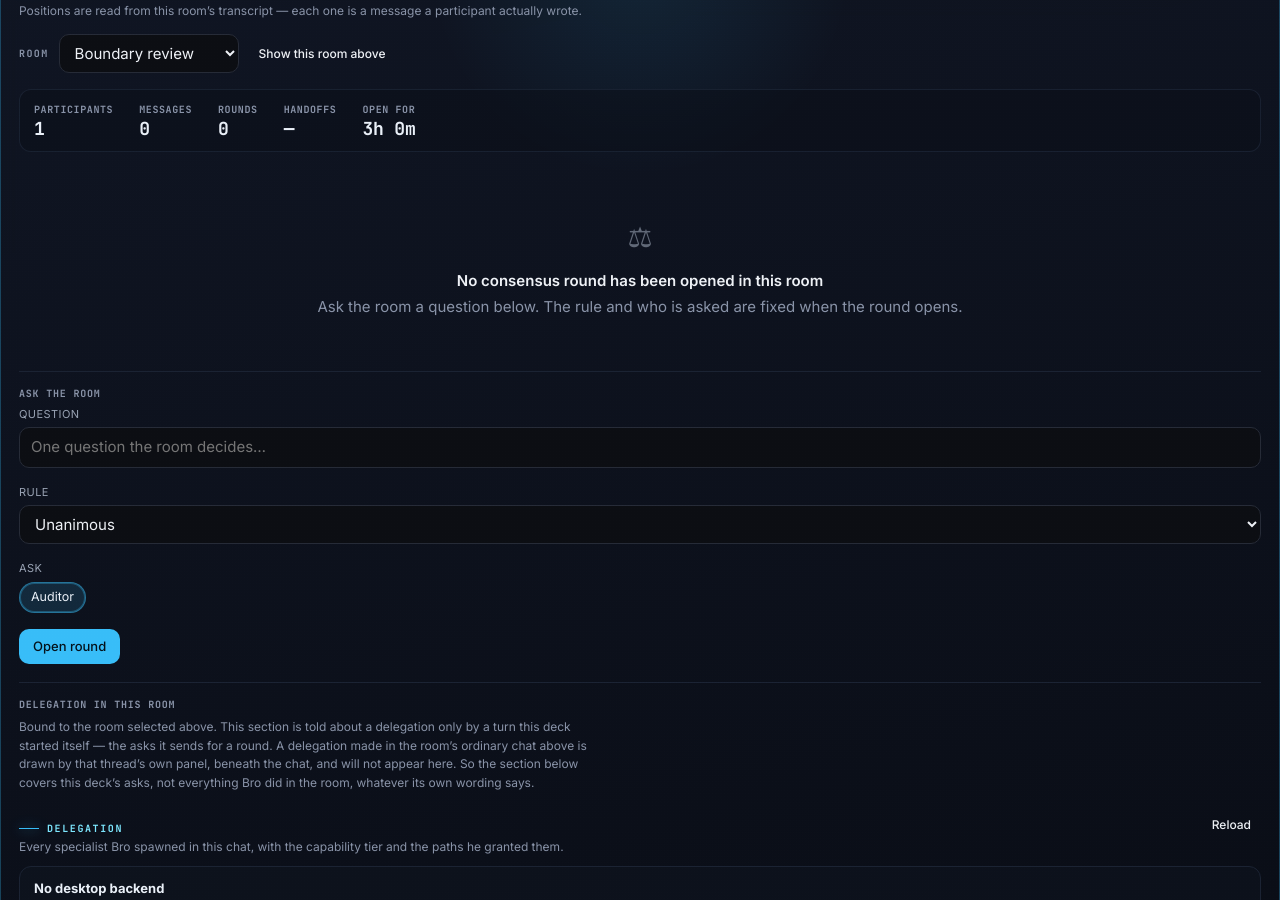
Test: GroupChat — handoffs after this room's asks have run › an ask the wall blocked ran no turn, so handoffs stay not established
(page scrolled)
Type "Ship it?" into the field labelled "Question". click: (640, 448)
box: [19,428,1261,468]
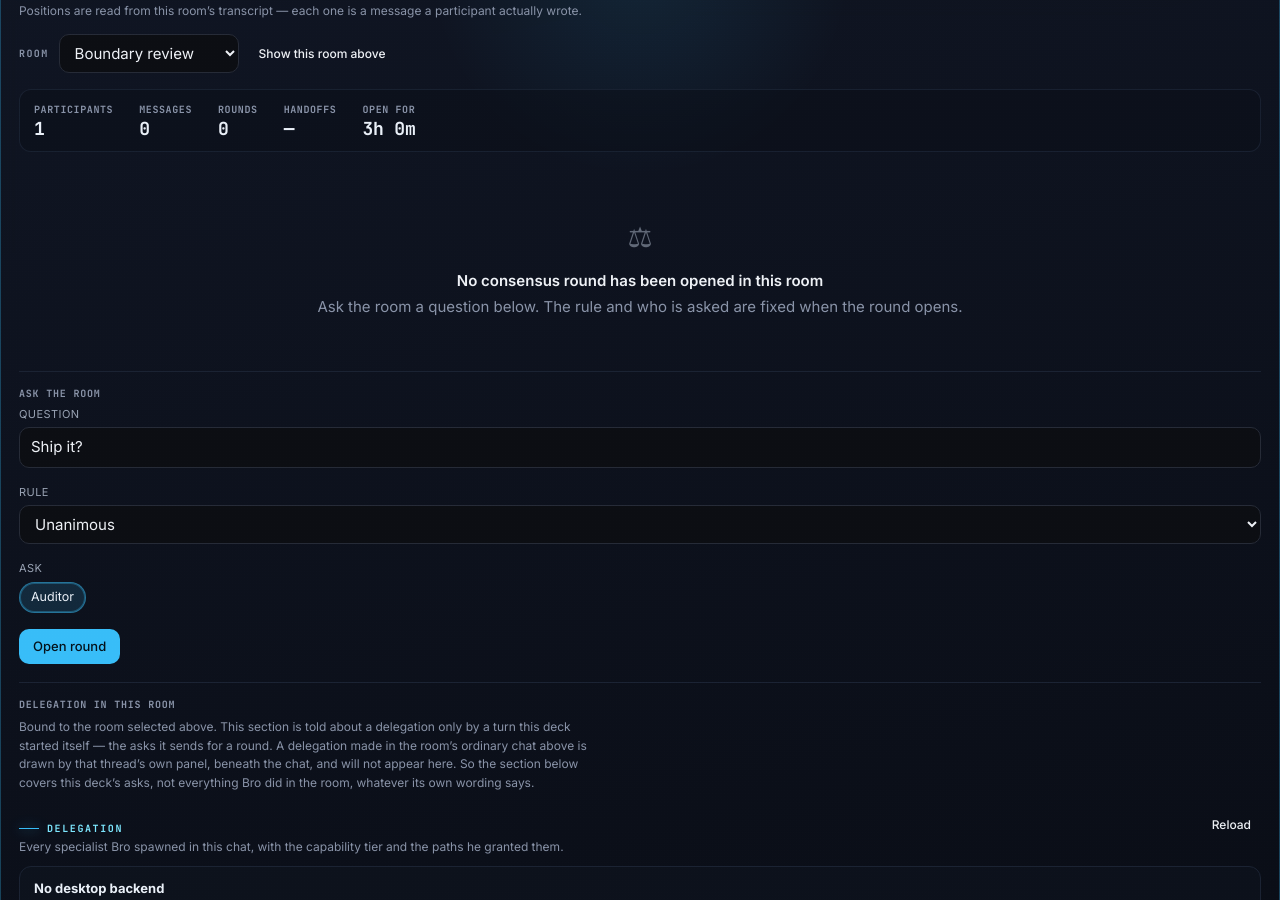
Click the button "Open round". click: (70, 646)
box: [19,629,120,664]
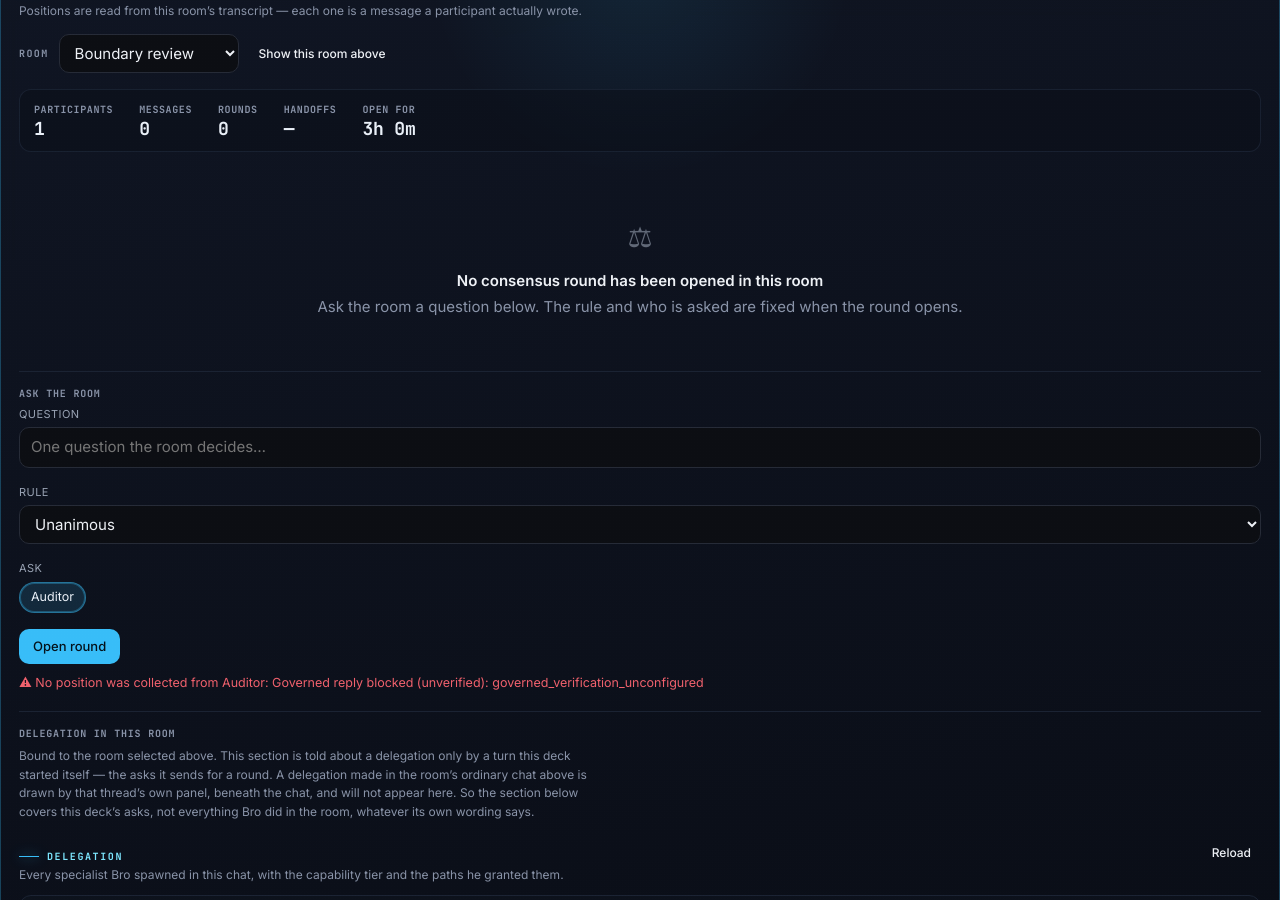
Result: the list item "governed_verification_unconfigured" is shown at [272,675,704,690]
